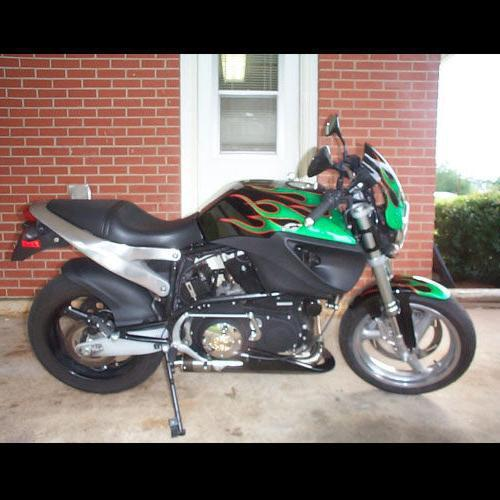motorcycle: (6, 98, 491, 405)
